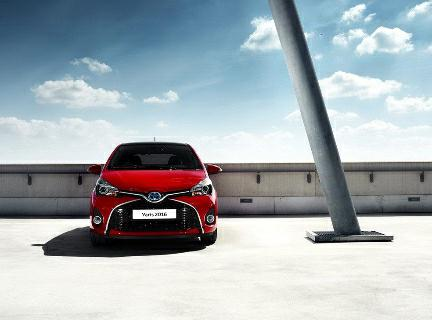丰田-Auris: (88, 137, 223, 247)
